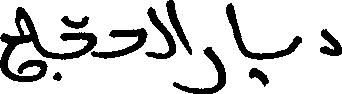ا: (19, 6, 44, 58), (172, 0, 192, 60), (225, 1, 246, 58)
ج: (0, 5, 32, 82), (52, 30, 98, 83)
ح: (105, 26, 144, 59)
د: (318, 27, 339, 57)
ر: (192, 45, 226, 92)
ل: (148, 0, 173, 62)
ي: (246, 33, 300, 85)
